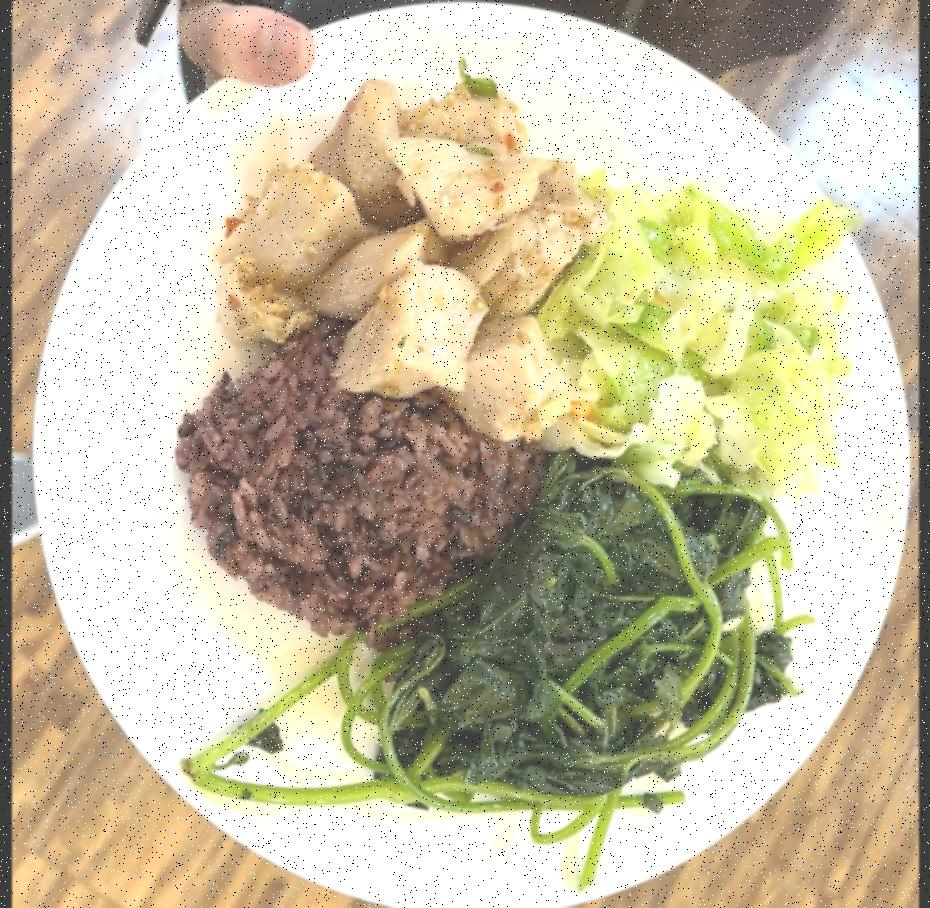plate: (27, 0, 913, 908)
purple rice: (182, 316, 540, 640)
scallion chicken: (214, 73, 594, 444)
side dish: (183, 472, 806, 886), (551, 176, 859, 502)
